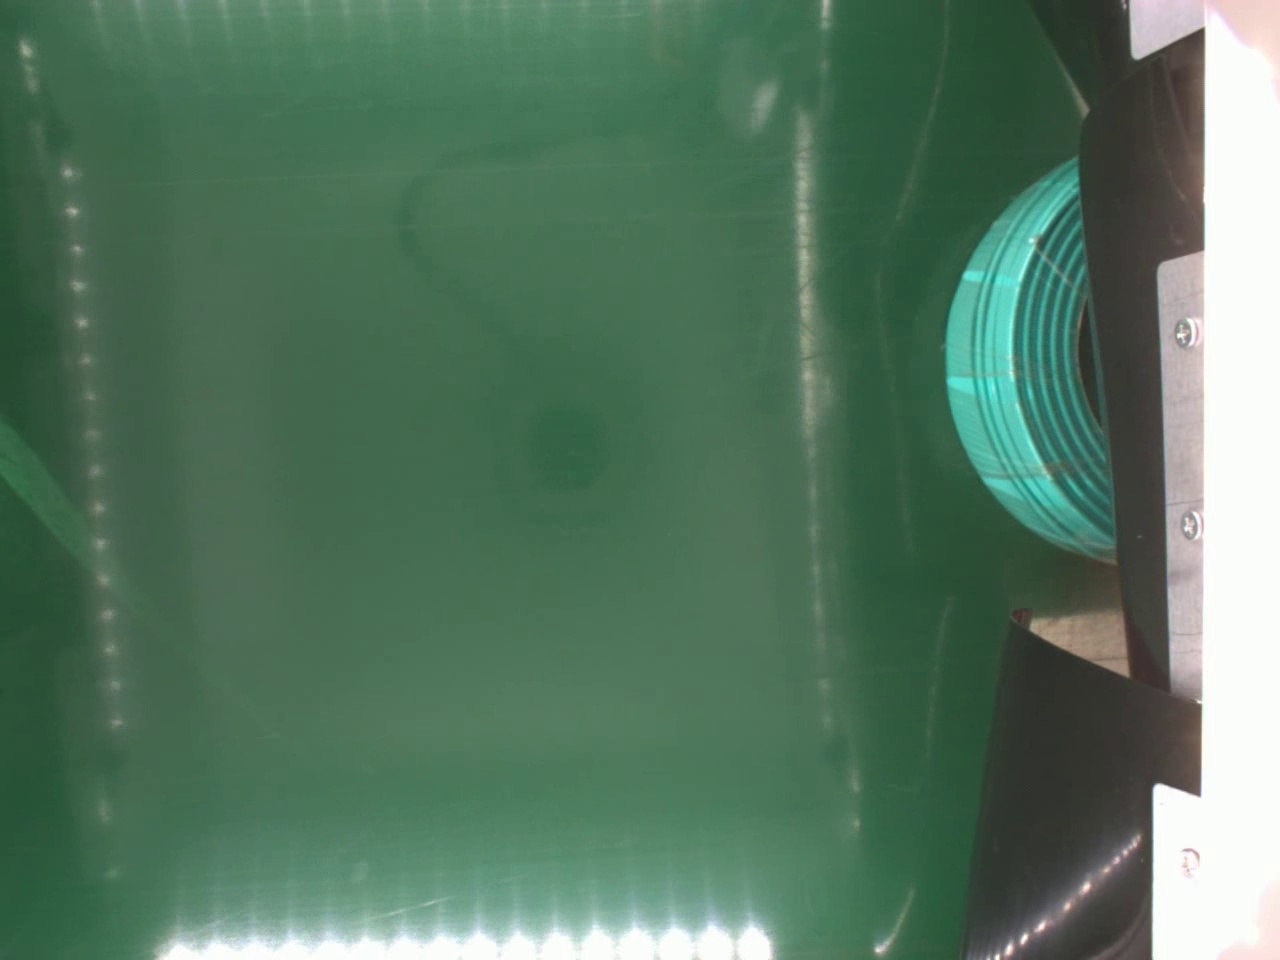green: (941, 151, 1121, 562)
